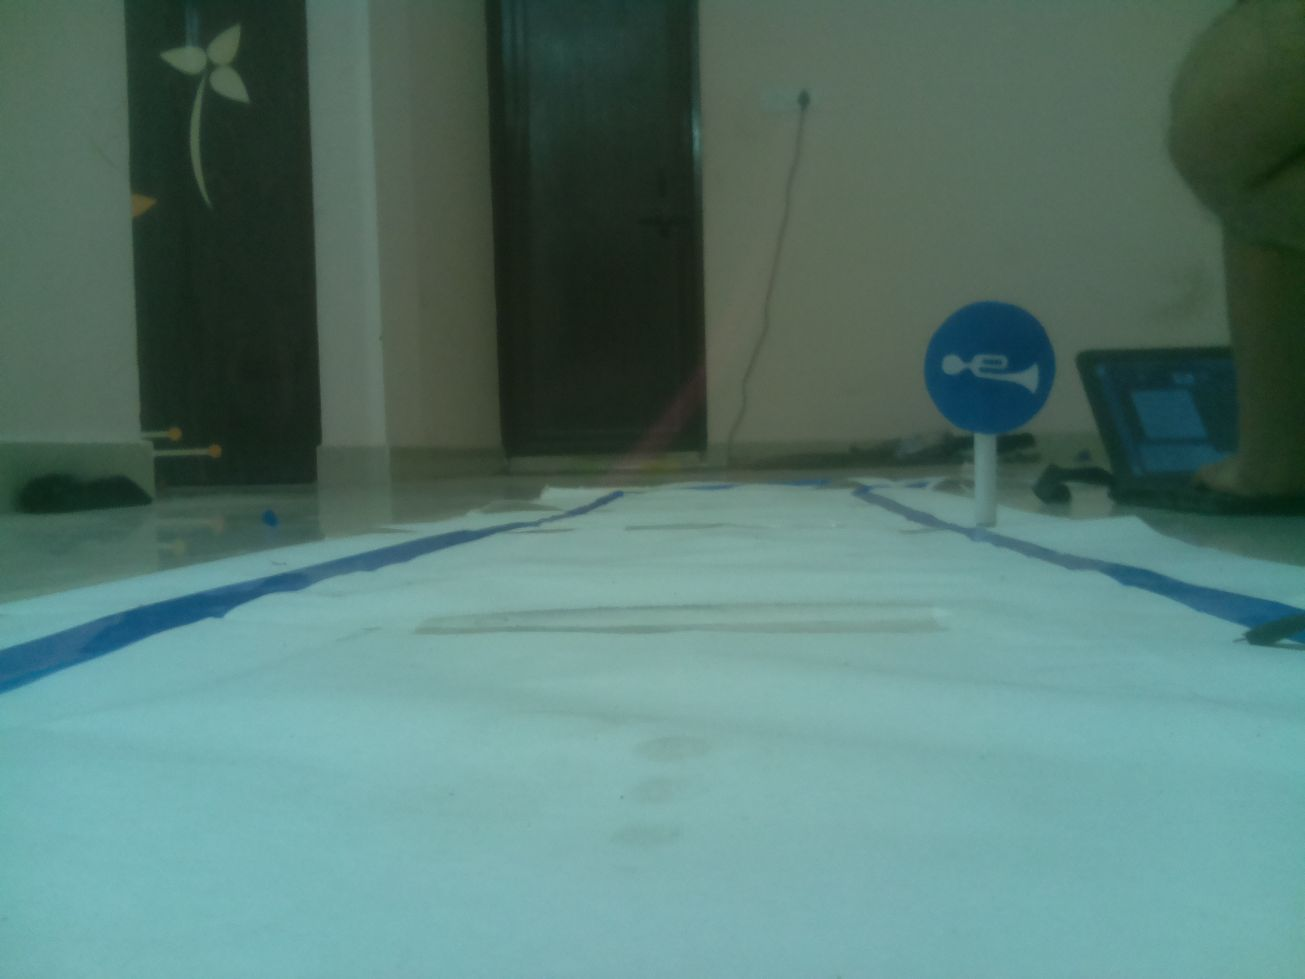blow-horn: (923, 301, 1056, 429)
